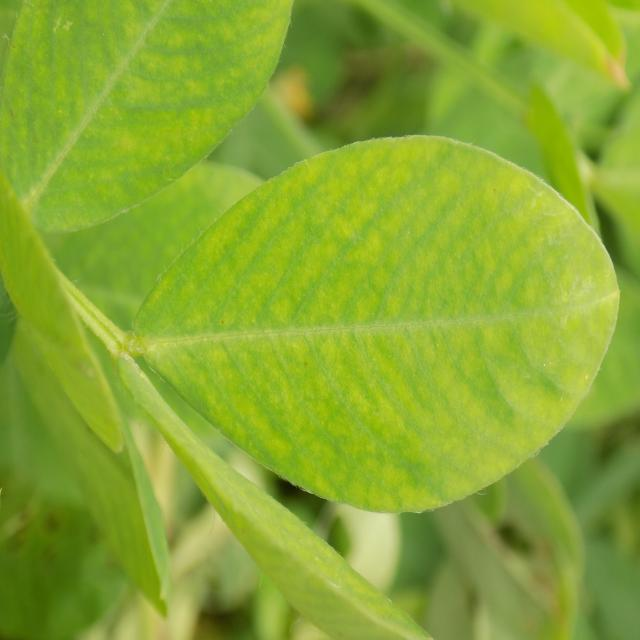Ground nut_healthy: (125, 123, 620, 519)
